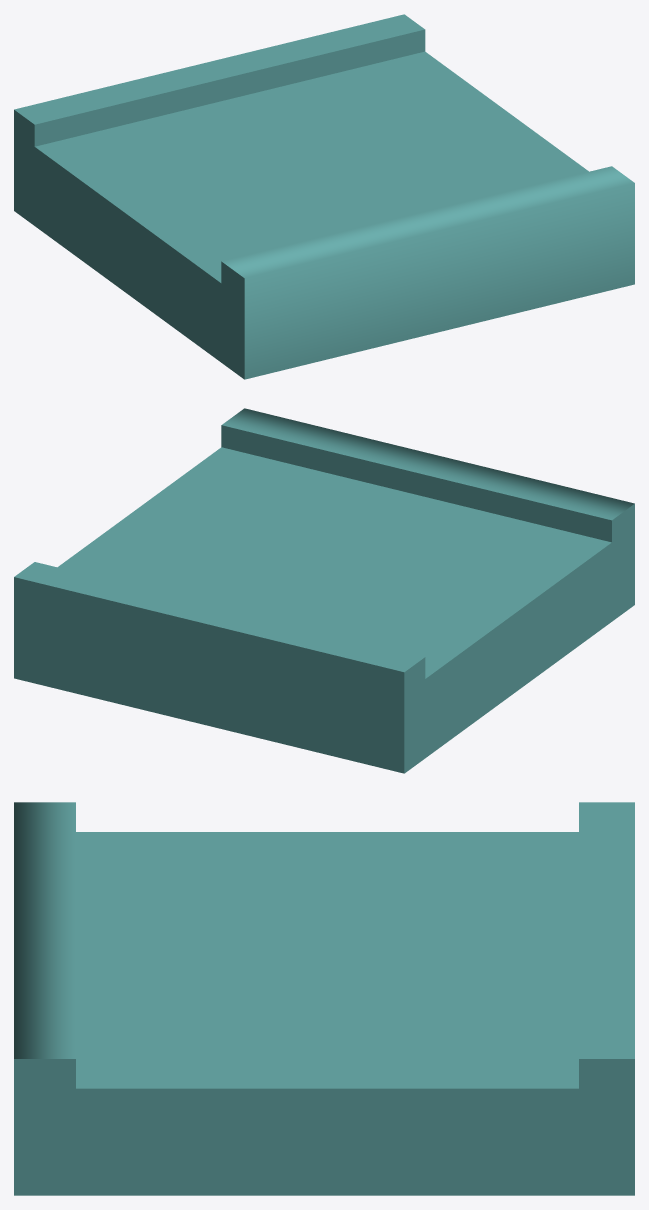
The model's file is Play.fbx.
3 renders of one model, top to bottom at view 1: azimuth 30°, elevation 25°; view 2: azimuth 150°, elevation 25°; view 3: azimuth 270°, elevation 25°, orthographic. The views are drawn at different scales.
Visible parts, largest first — view 1: Play; view 2: Play; view 3: Play.
Boxes of the visible parts, x1,y1,x2,y2 form: Play: (14,14,634,379); Play: (14,408,634,773); Play: (14,802,634,1195).
Size of the model in its own units: 6.17 by 1.53 by 6.31.
